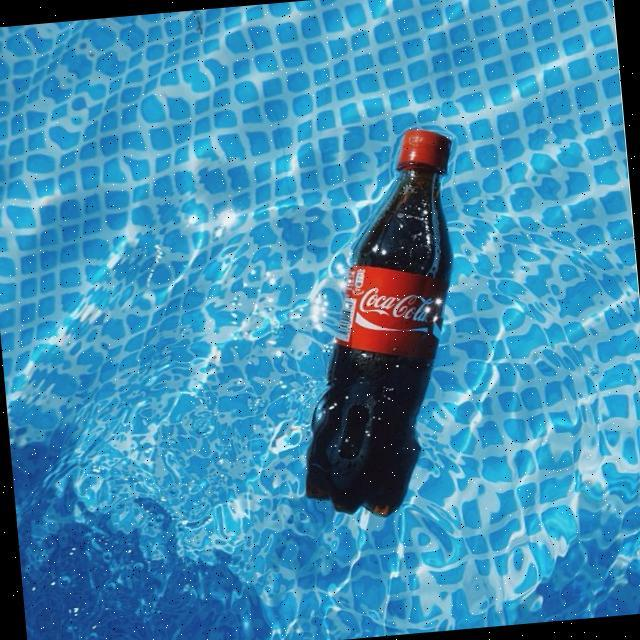coca-cola: (272, 122, 479, 523)
